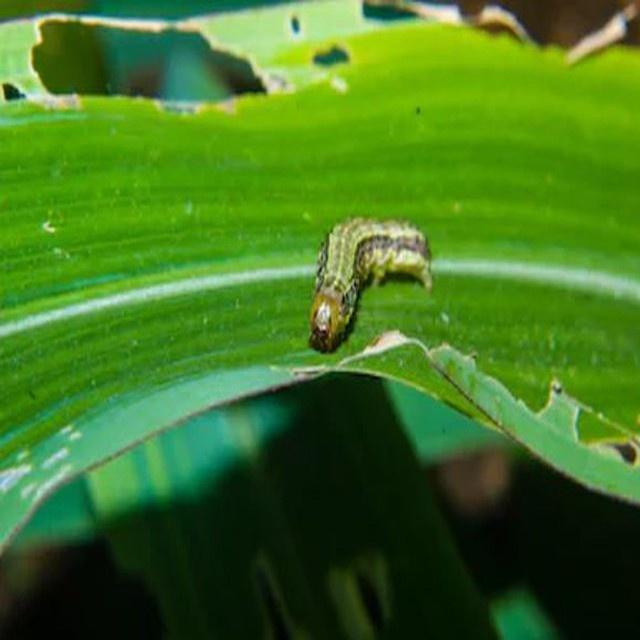gusano_cogollero: (306, 211, 432, 354)
